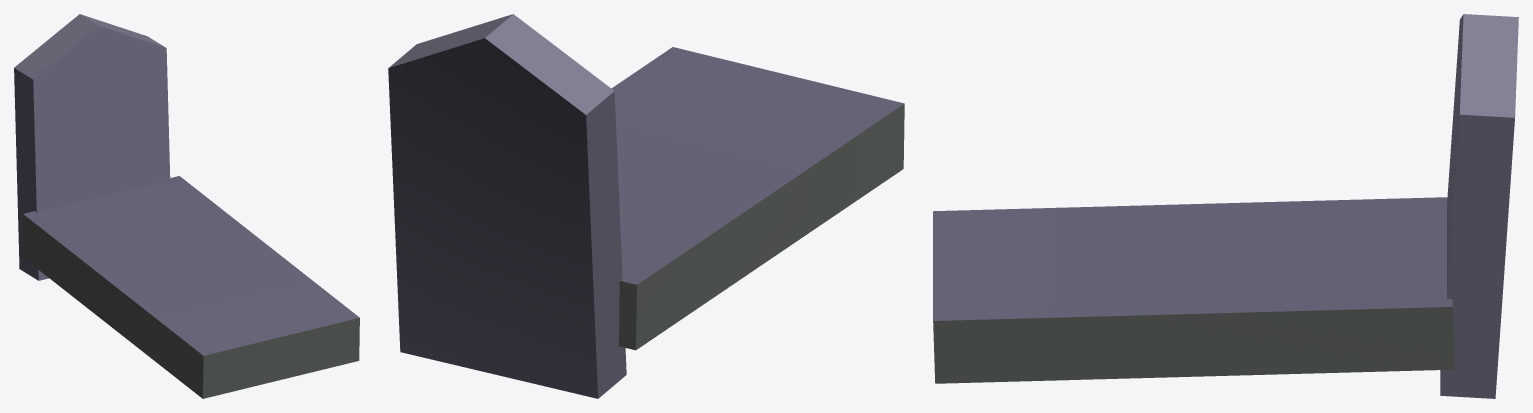
The model's file is Gravestone_C.fbx.
3 renders of one model, left to right at view 1: azimuth 30°, elevation 25°; view 2: azimuth 150°, elevation 25°; view 3: azimuth 270°, elevation 25°, orthographic. The views are drawn at different scales.
Visible parts, largest first — view 1: Gravestone_C; view 2: Gravestone_C; view 3: Gravestone_C.
Part boxes in pixels (left/top/right/bottom): Gravestone_C: left=14, top=14, right=359, bottom=398; Gravestone_C: left=388, top=14, right=904, bottom=398; Gravestone_C: left=933, top=14, right=1518, bottom=398.
Size of the model in its own units: 0.75 by 1.08 by 1.69.
